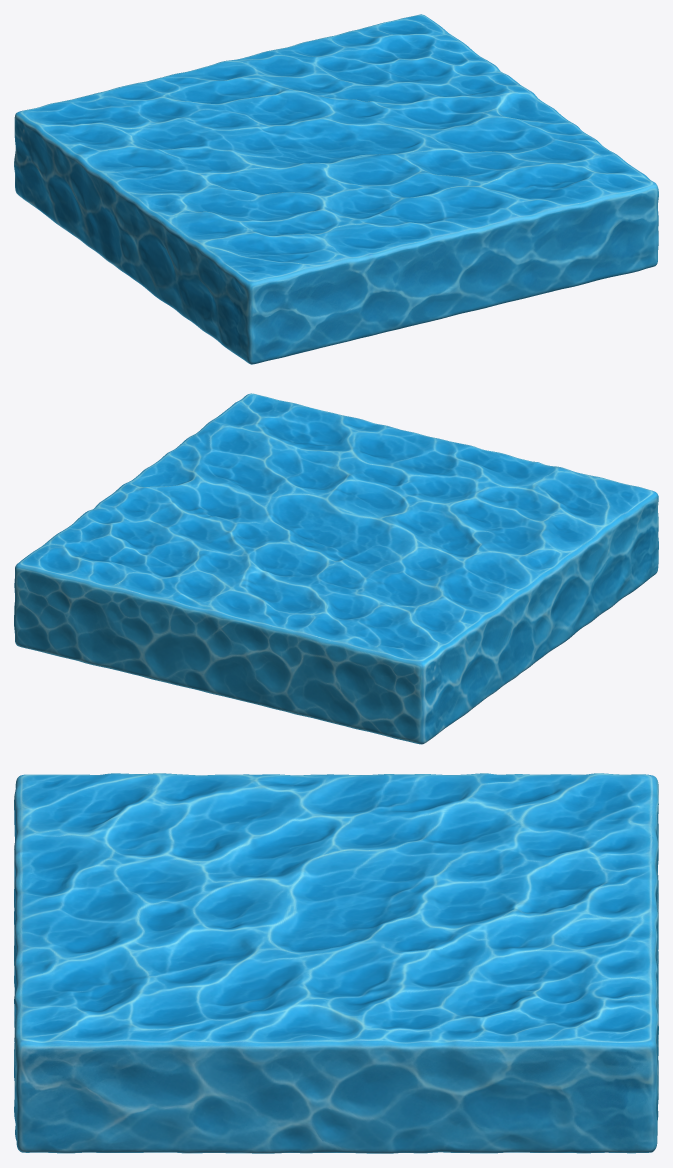
File: river-tile.glb
The picture shows the model from 3 angles, top to bottom: view 1: azimuth 30°, elevation 25°; view 2: azimuth 150°, elevation 25°; view 3: azimuth 270°, elevation 25°; orthographic projection. The views are drawn at different scales.
Size of the model in its own units: 1.9 by 0.3888 by 1.9.
Materials: 1 (1 with a texture image).
